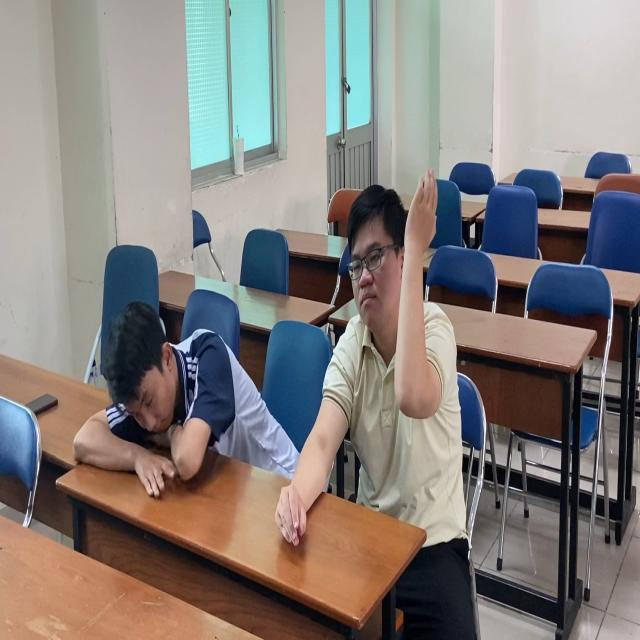raise_hand: (333, 166, 458, 498)
sleep: (69, 292, 292, 496)
